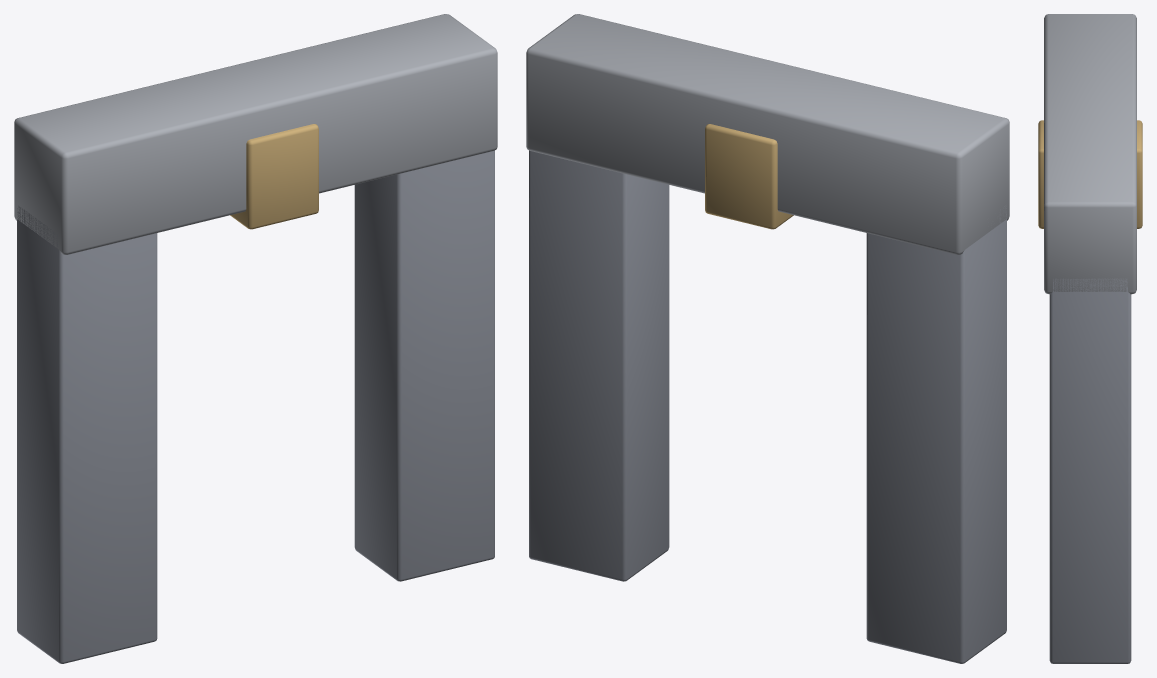
File: archway.glb
3 renders of one model, left to right at view 1: azimuth 30°, elevation 25°; view 2: azimuth 150°, elevation 25°; view 3: azimuth 270°, elevation 25°, orthographic. The views are drawn at different scales.
Parts seen in each view (by area): view 1: Lintel, LeftJamb, RightJamb, Keystone; view 2: Lintel, LeftJamb, RightJamb, Keystone; view 3: RightJamb, Lintel, Keystone.
Boxes of the visible parts, box(x1,y1,x2,y2) form: Lintel: box(14, 14, 497, 254); LeftJamb: box(17, 206, 157, 663); RightJamb: box(354, 150, 494, 581); Keystone: box(230, 124, 318, 229); Lintel: box(526, 14, 1009, 254); LeftJamb: box(866, 205, 1006, 663); RightJamb: box(529, 150, 669, 581); Keystone: box(705, 124, 793, 229); RightJamb: box(1049, 278, 1131, 663); Lintel: box(1044, 14, 1136, 294); Keystone: box(1038, 120, 1142, 228).
Bounding box in the file's own units: 4 × 4.5 × 0.92.
